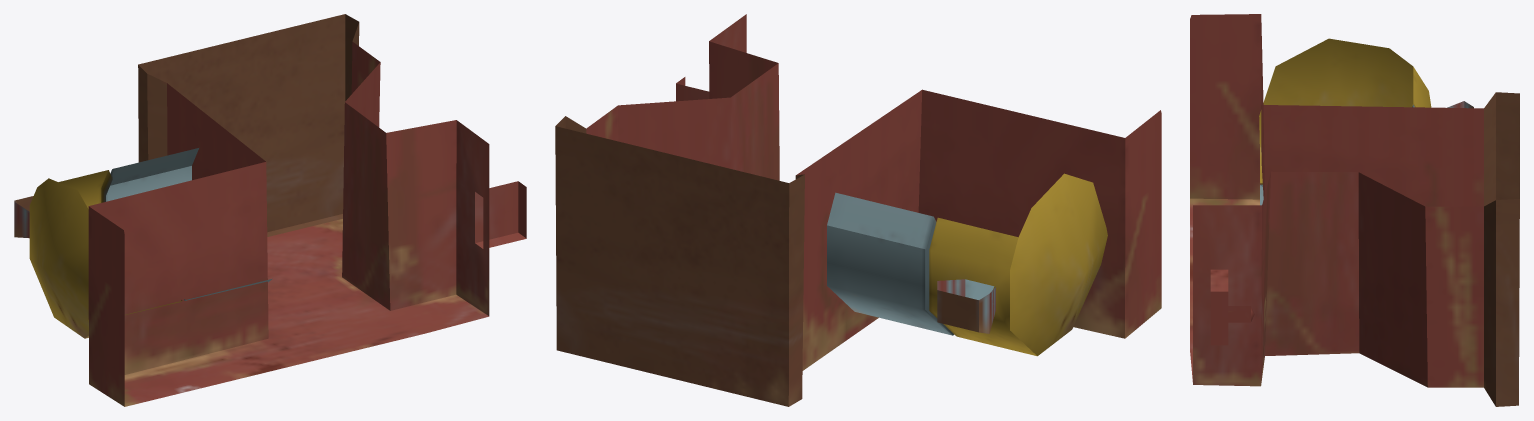
The model's file is SM_Train_Tete.fbx.
3 renders of one model, left to right at view 1: azimuth 30°, elevation 25°; view 2: azimuth 150°, elevation 25°; view 3: azimuth 270°, elevation 25°, orthographic. The views are drawn at different scales.
Visible parts, largest first — view 1: SM_Train_Head; view 2: SM_Train_Head; view 3: SM_Train_Head.
Part boxes in pixels (bbox=[...]): SM_Train_Head: bbox=[14, 14, 526, 406]; SM_Train_Head: bbox=[555, 14, 1161, 406]; SM_Train_Head: bbox=[1190, 14, 1519, 406].
Bounding box in the file's own units: 33.63 × 15.32 × 22.
